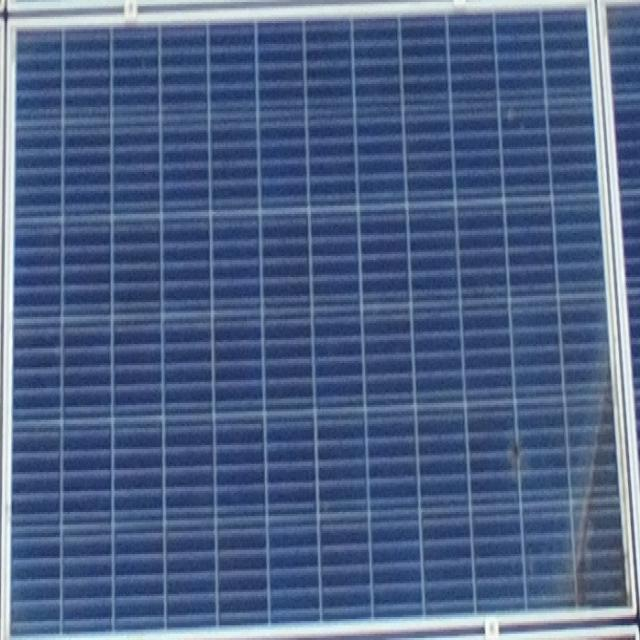Dust: (544, 314, 633, 616)
